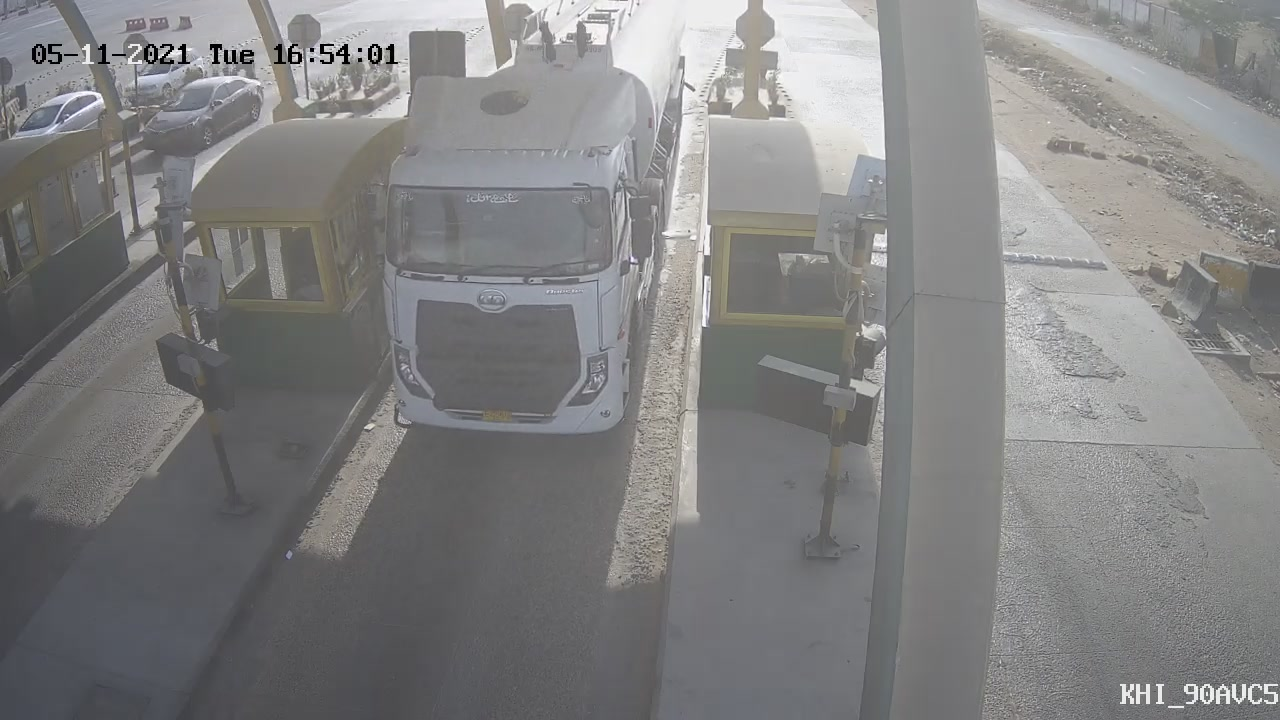F6: (344, 8, 705, 455)
